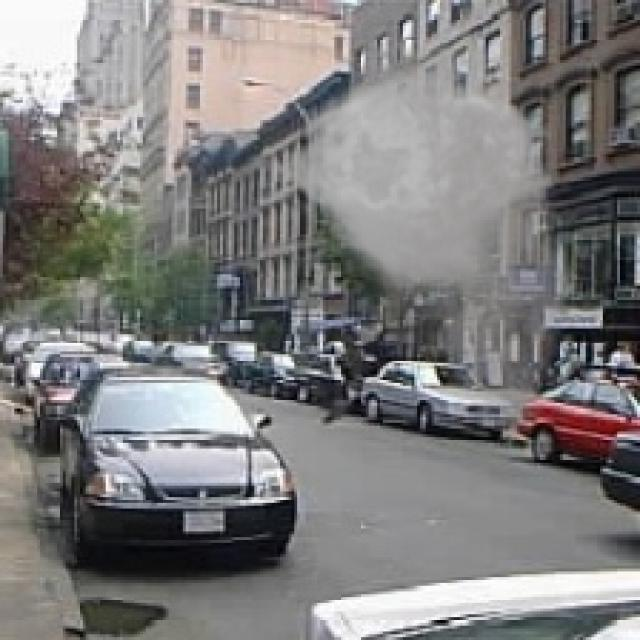Smoke: (246, 20, 588, 440)
